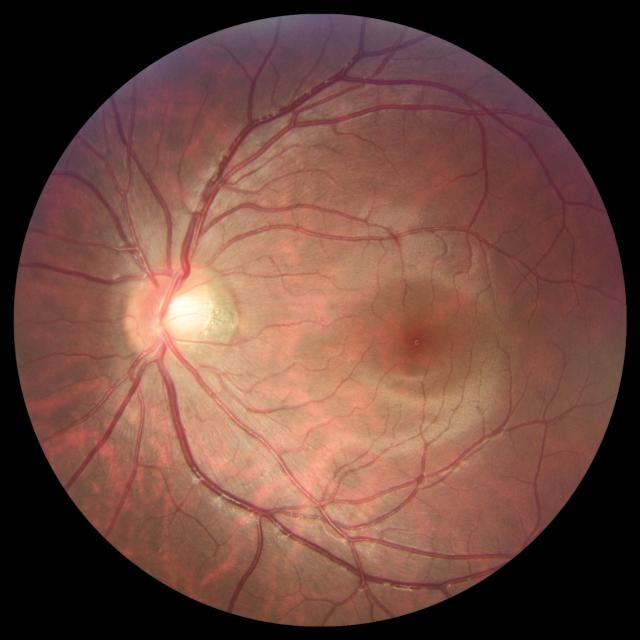OC: (157, 290, 200, 336)
OD: (125, 262, 215, 363)
